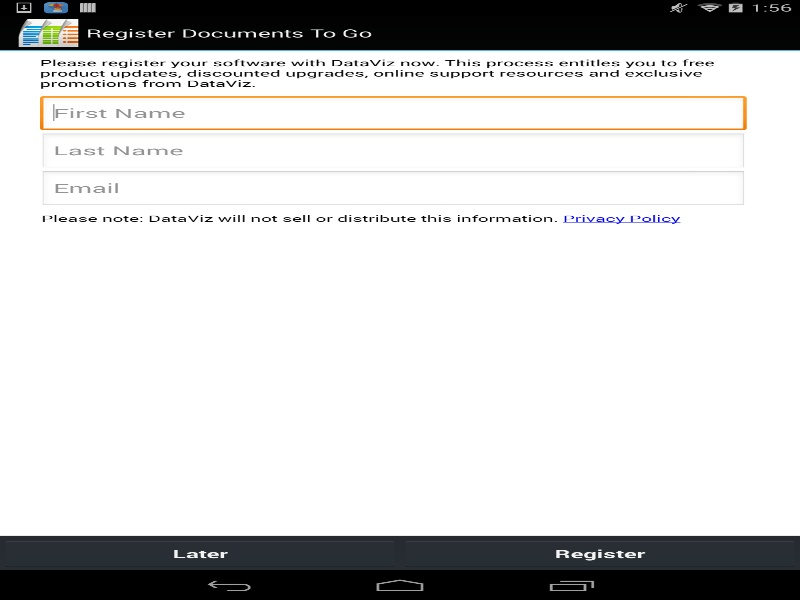Button: (0, 538, 400, 568), (400, 538, 800, 568)
Input: (40, 95, 746, 133), (40, 170, 746, 208), (40, 133, 746, 170)
